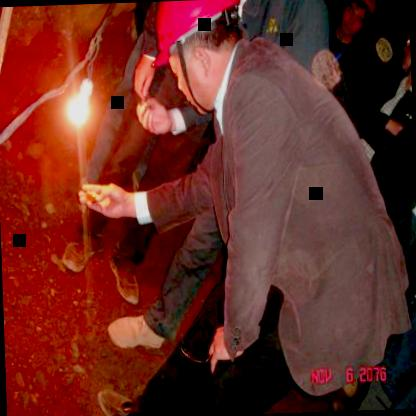helmet: (139, 0, 251, 113), (331, 0, 383, 45)
